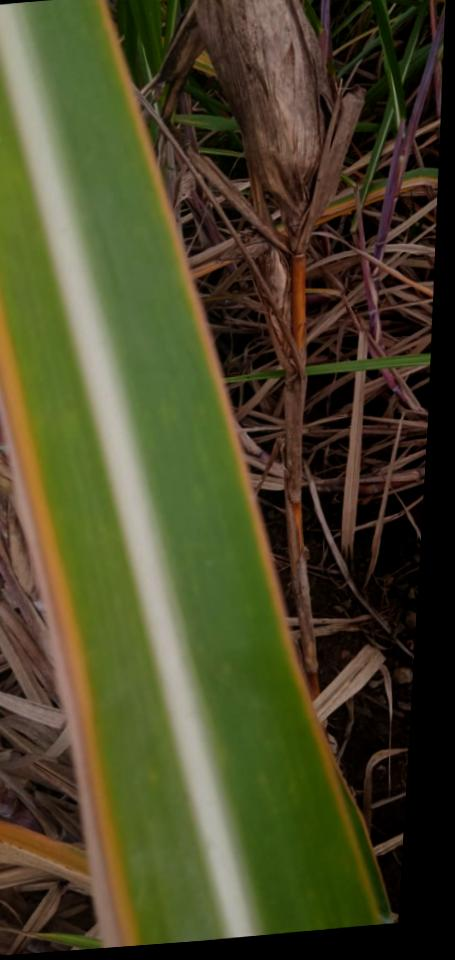Yellow: (97, 0, 382, 924), (0, 293, 137, 947)
